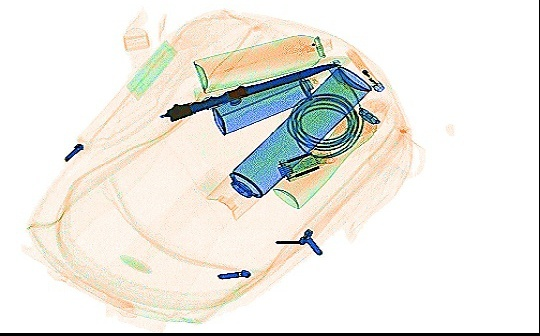knife: (157, 60, 340, 121)
lighter: (344, 46, 385, 93)
pressure: (205, 63, 371, 222), (271, 95, 390, 209), (190, 29, 333, 94)
zippooil: (208, 73, 314, 135)
